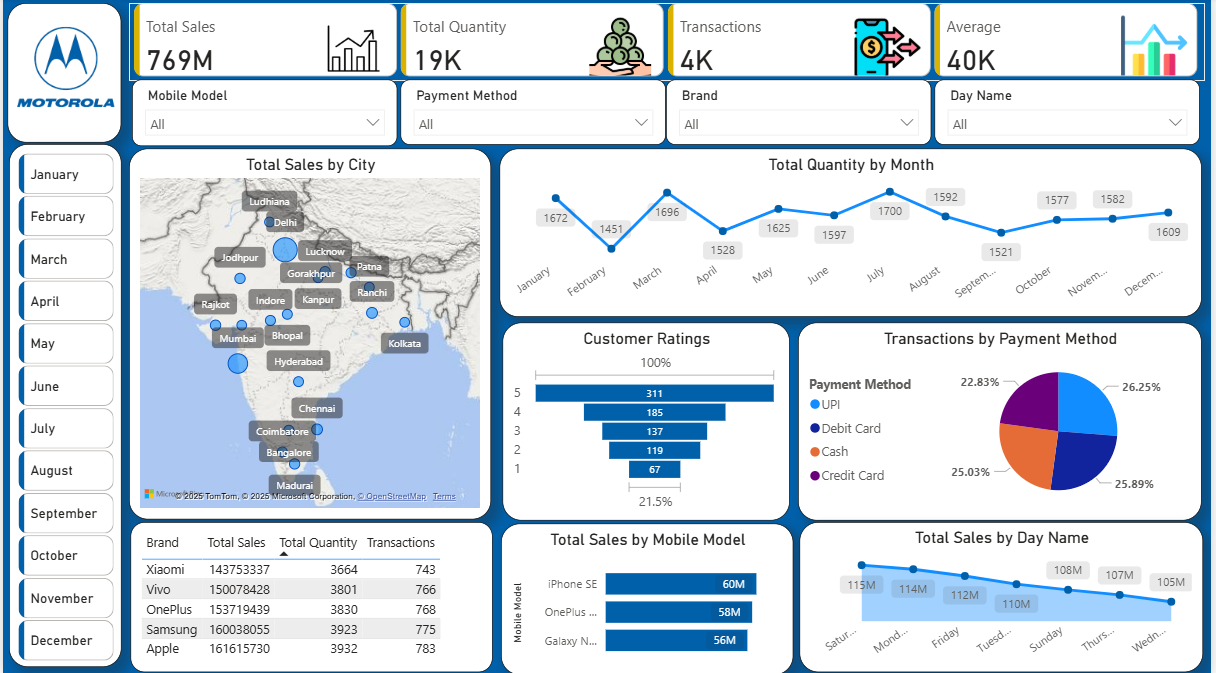

The page's visual inventory and layout, read from the dashboard file:
{"tool":"powerbi","page":{"name":"Page 1","canvas":[1280,720],"ordinal":0},"visuals":[{"type":"shape","box":[5.5,6.9,120.8,148.2],"z":0},{"type":"image","box":[9.6,16.5,113.9,116.6],"z":1000},{"type":"shape","box":[6.9,156.4,119.4,554.4],"z":2000},{"type":"advancedSlicerVisual","fields":{"Values":["Sales_Data.Date.Variation.Date Hierarchy.Month"]},"box":[11,160.5,111.1,548.9],"z":3000},{"type":"cardVisual","fields":{"Data":["Sales_Data.Total Sales","Sales_Data.Total Quantity","Sales_Data.Transactions","Sales_Data.Average"]},"box":[134,5.6,1140.1,83.7],"z":4000},{"type":"map","fields":{"Category":["Sales_Data.City"],"Size":["Sales_Data.Total Sales"]},"box":[132.9,160.8,384.1,393.1],"z":5000},{"type":"lineChart","fields":{"Y":["Sales_Data.Total Quantity"],"Category":["Sales_Data.Date.Variation.Date Hierarchy.Month","Sales_Data.Date.Variation.Date Hierarchy.Day"]},"box":[525.9,160.8,744.8,178.7],"z":6000},{"type":"clusteredBarChart","fields":{"Category":["Sales_Data.Mobile Model"],"Y":["Sales_Data.Total Sales"]},"box":[528.3,558.5,310.1,160.5],"z":7000},{"type":"pieChart","fields":{"Category":["Sales_Data.Payment Method"],"Y":["Sales_Data.Transactions"]},"box":[842.5,344.4,428.1,209.9],"z":8000},{"type":"funnel","title":"Customer Ratings","fields":{"Category":["Sales_Data.Customer Ratings"],"Y":["Sum(Sales_Data.Customer Ratings)"]},"box":[529.7,344.4,304.6,209.9],"z":9000},{"type":"areaChart","fields":{"Category":["Sales_Data.Day Name"],"Y":["Sales_Data.Total Sales"]},"box":[845.3,557.1,428.1,159.2],"z":10000},{"type":"tableEx","fields":{"Values":["Sales_Data.Brand","Sales_Data.Total Sales","Sales_Data.Total Quantity","Sales_Data.Transactions"]},"box":[135.8,557.1,384.2,159.2],"z":11000},{"type":"slicer","fields":{"Values":["Sales_Data.Mobile Model"]},"box":[136.2,87.1,281.4,70.3],"z":12000},{"type":"slicer","fields":{"Values":["Sales_Data.Payment Method"]},"box":[421,87.1,281.4,69.2],"z":13000},{"type":"slicer","fields":{"Values":["Sales_Data.Brand"]},"box":[703.5,87.1,281.4,69.2],"z":14000},{"type":"slicer","fields":{"Values":["Sales_Data.Day Name"]},"box":[988.2,87.1,281.4,69.2],"z":15000}]}

Visuals, with their boxes in screenshot pixels (x1, y1, x2, y2), scaled from the page's 1280x720 canvas onto the 1216x673 screenshot:
shape: x1=5 y1=6 x2=120 y2=145
image: x1=9 y1=15 x2=117 y2=124
shape: x1=7 y1=146 x2=120 y2=664
advancedSlicerVisual - Sales_Data.Date.Variation.Date Hierarchy.Month: x1=10 y1=150 x2=116 y2=663
cardVisual - Sales_Data.Total Sales x Sales_Data.Total Quantity: x1=127 y1=5 x2=1210 y2=83
map - Sales_Data.City x Sales_Data.Total Sales: x1=126 y1=150 x2=491 y2=518
lineChart - Sales_Data.Total Quantity x Sales_Data.Date.Variation.Date Hierarchy.Month: x1=500 y1=150 x2=1207 y2=317
clusteredBarChart - Sales_Data.Mobile Model x Sales_Data.Total Sales: x1=502 y1=522 x2=796 y2=672
pieChart - Sales_Data.Payment Method x Sales_Data.Transactions: x1=800 y1=322 x2=1207 y2=518
"Customer Ratings" funnel: x1=503 y1=322 x2=793 y2=518
areaChart - Sales_Data.Day Name x Sales_Data.Total Sales: x1=803 y1=521 x2=1210 y2=670
tableEx - Sales_Data.Brand x Sales_Data.Total Sales: x1=129 y1=521 x2=494 y2=670
slicer - Sales_Data.Mobile Model: x1=129 y1=81 x2=397 y2=147
slicer - Sales_Data.Payment Method: x1=400 y1=81 x2=667 y2=146
slicer - Sales_Data.Brand: x1=668 y1=81 x2=936 y2=146
slicer - Sales_Data.Day Name: x1=939 y1=81 x2=1206 y2=146
